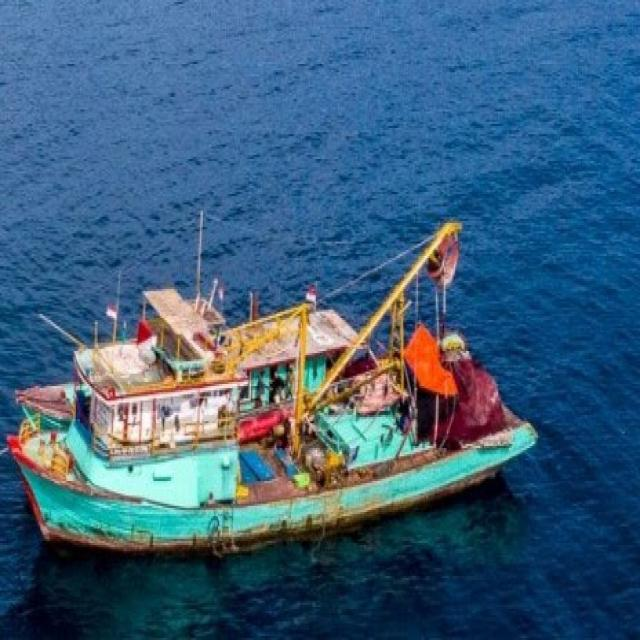Fishing Boat: (0, 182, 570, 536)
